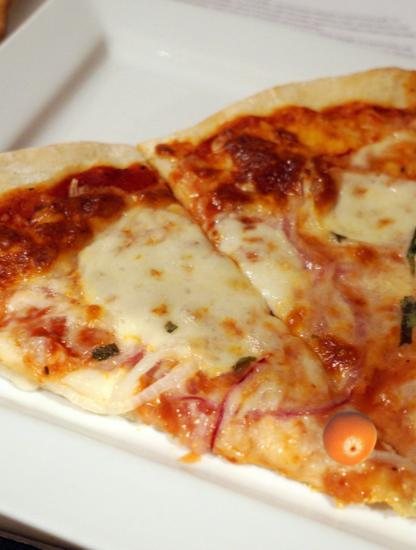Grapefruit: (321, 409, 378, 466)
